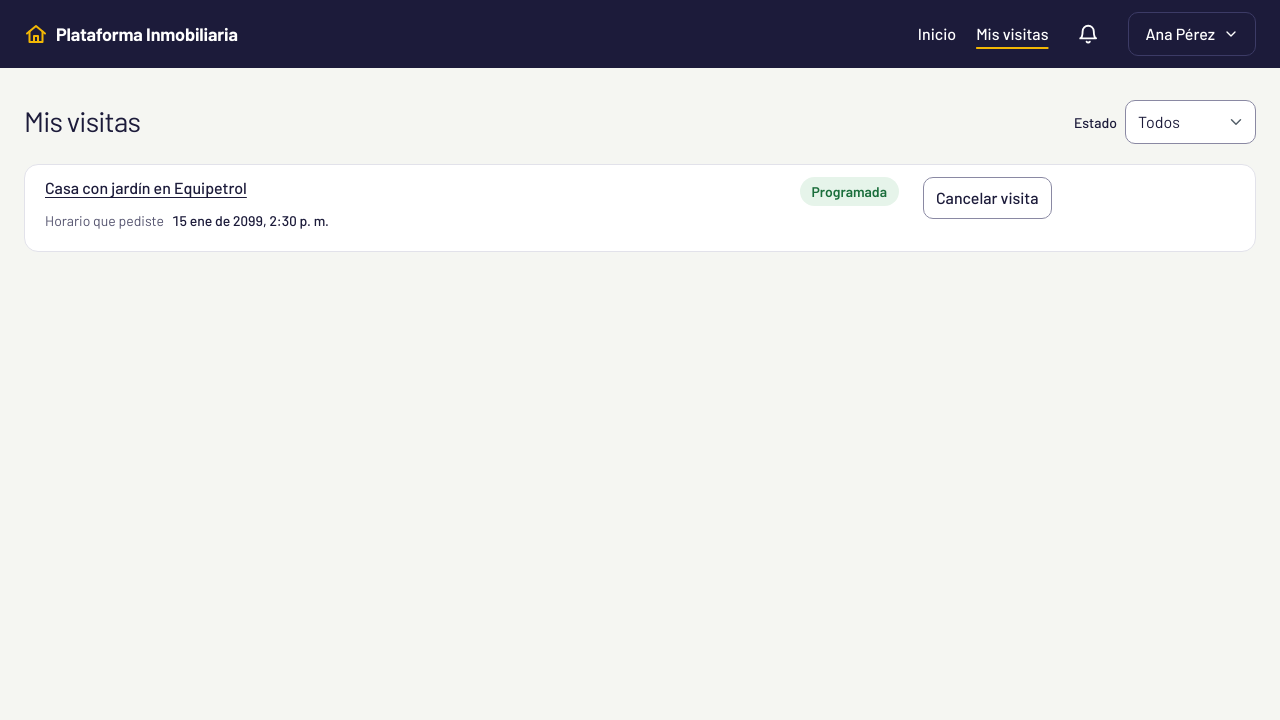
Scenario: MyVisitsPage › shows the reason when it is too late to cancel
Click the button "Cancelar visita" at (987, 198), box [923,177,1052,219]
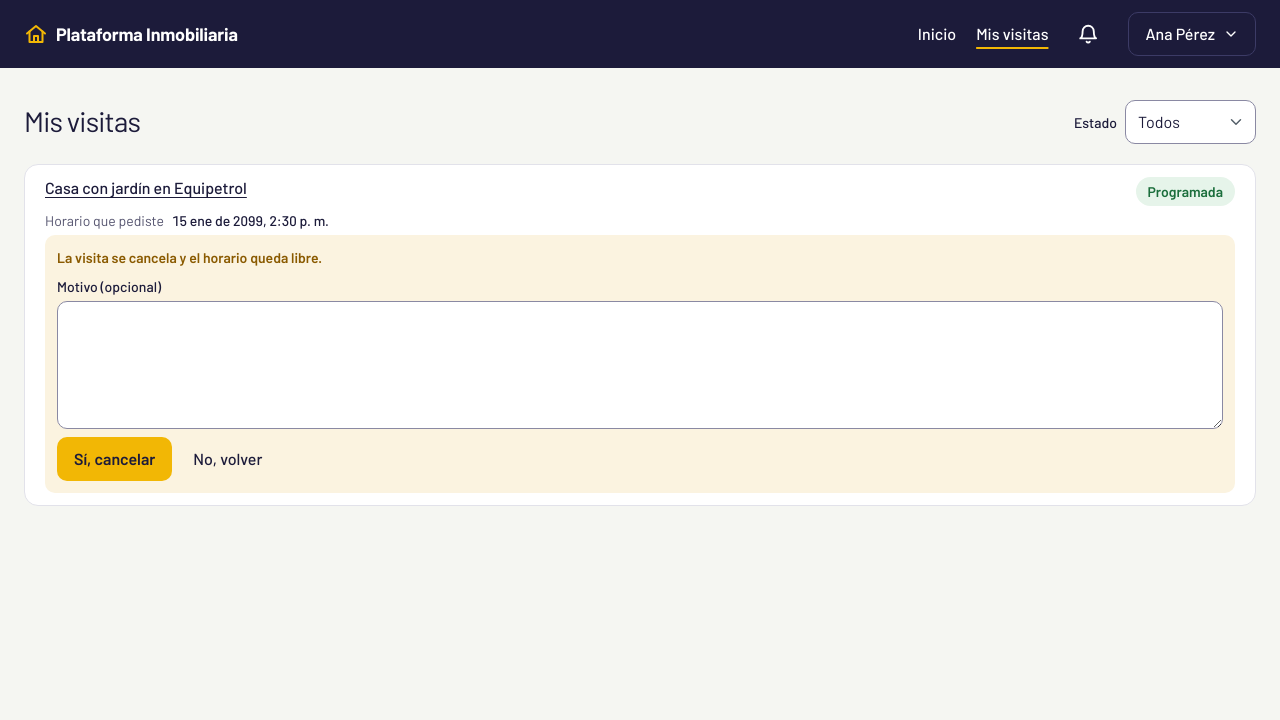
Click the button "Sí, cancelar" at (115, 459), box [57,437,172,481]
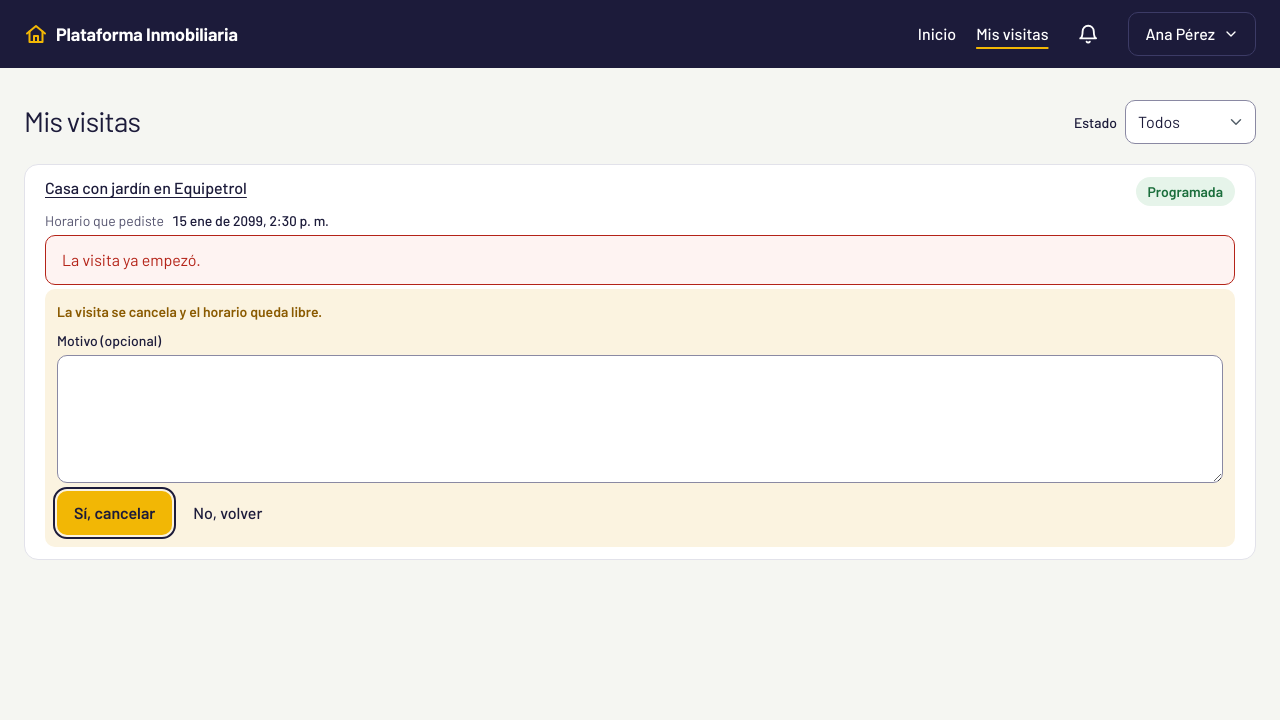
Check: the message reads "La visita ya empezó.", box [62,250,201,269]
